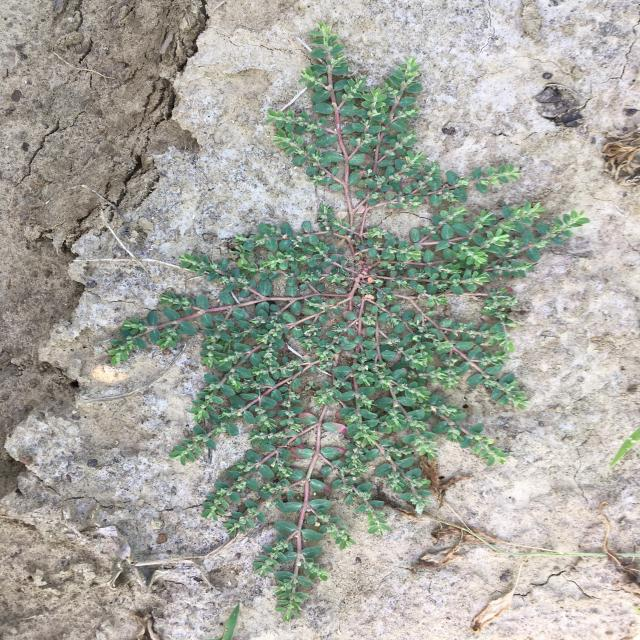SpottedSpurge: (108, 21, 590, 622)
